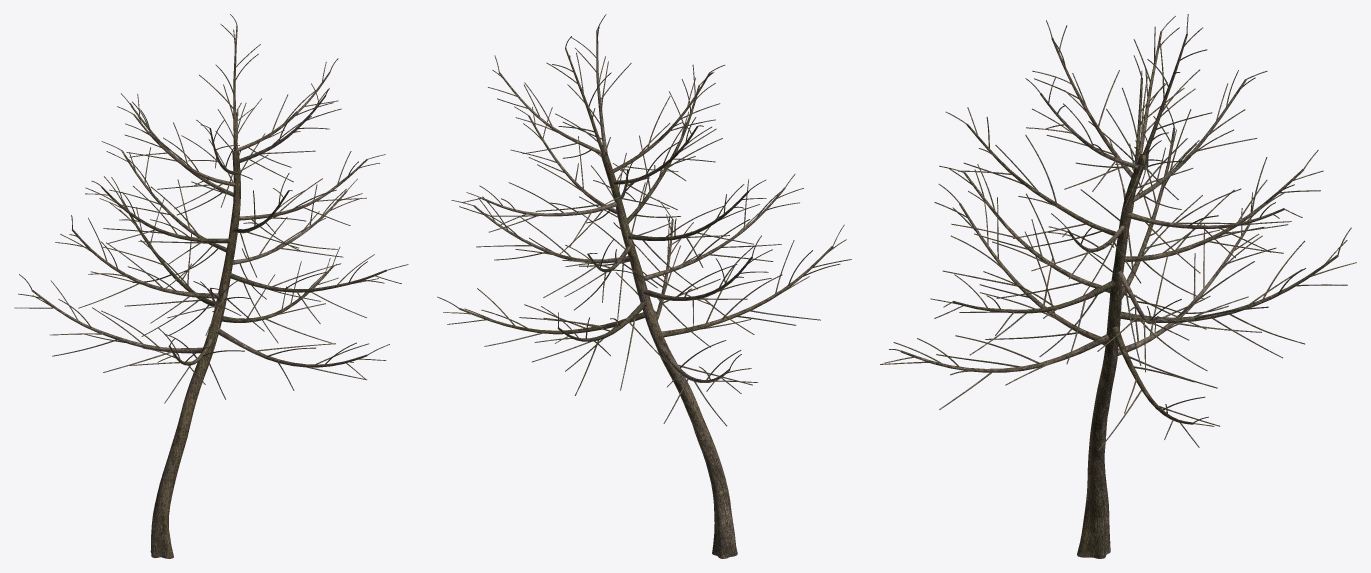
Rendered from SM_Tree_Wetland_015.FBX.
The picture shows the model from 3 angles, left to right: view 1: azimuth 30°, elevation 25°; view 2: azimuth 150°, elevation 25°; view 3: azimuth 270°, elevation 25°; orthographic projection. The views are drawn at different scales.
Visible parts, largest first — view 1: SM_Tree_Wetland_11_LOD0; view 2: SM_Tree_Wetland_11_LOD0; view 3: SM_Tree_Wetland_11_LOD0.
Part boxes in pixels (left/top/right/bottom): SM_Tree_Wetland_11_LOD0: left=14, top=14, right=408, bottom=558; SM_Tree_Wetland_11_LOD0: left=437, top=14, right=851, bottom=558; SM_Tree_Wetland_11_LOD0: left=880, top=14, right=1356, bottom=558.
Size of what is drawn, in the model's own units: 241 by 258 by 361.
